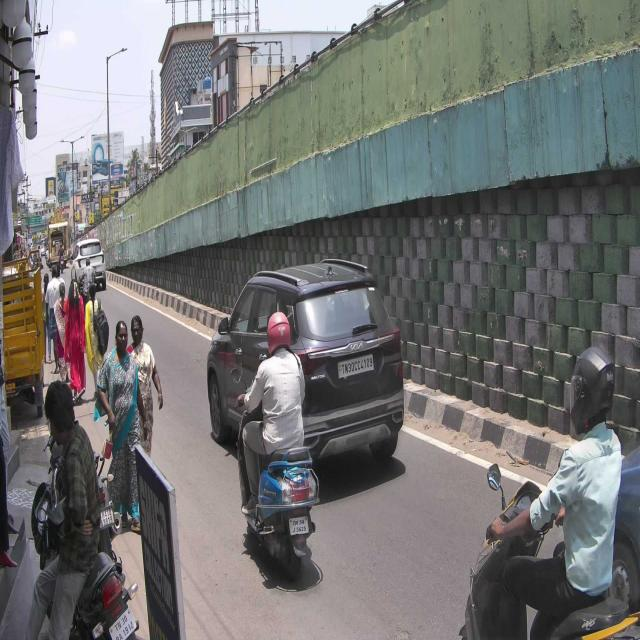single_rider: (458, 343, 640, 640), (228, 309, 322, 586)
